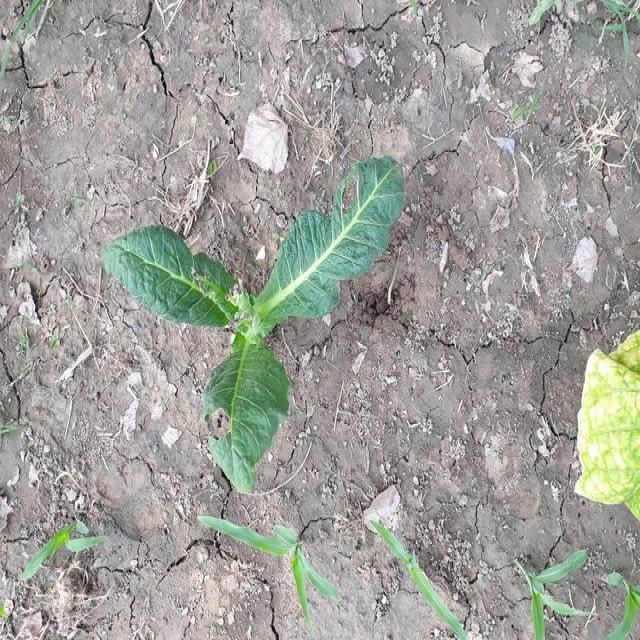crop: (98, 159, 408, 486)
